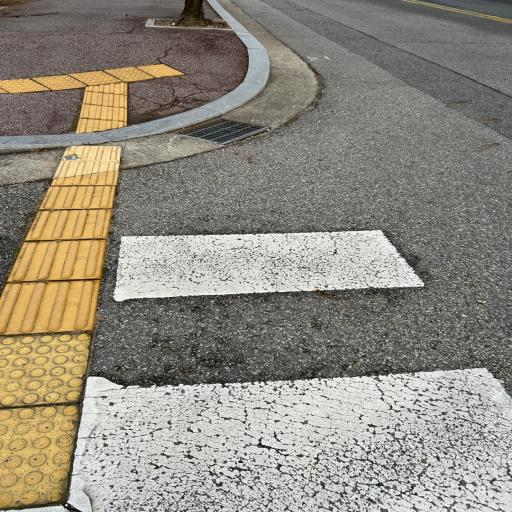drain: (178, 119, 269, 144)
